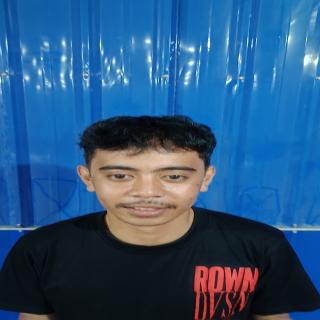Netral: (91, 137, 207, 231)
